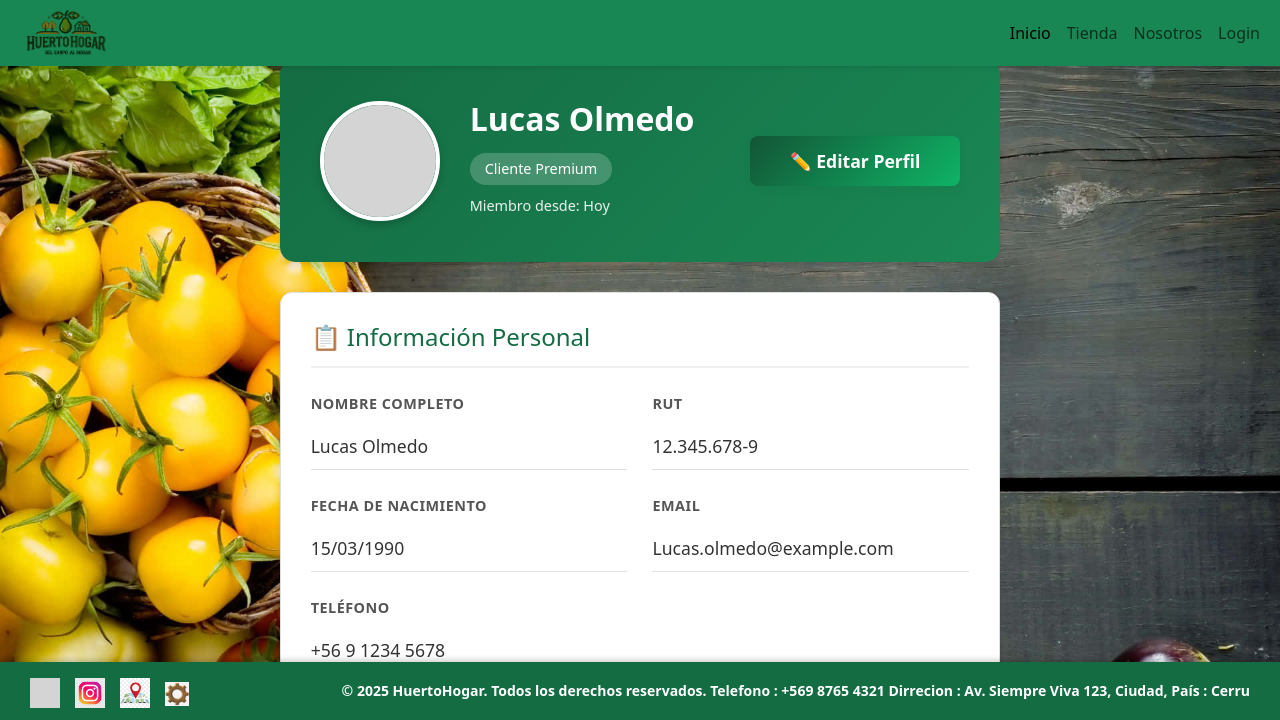
it: Usuario Component › 5. Cancela la edición sin guardar cambios
This screenshot has width=1280, height=720.
Click the button "✏️ Editar Perfil". click: click(855, 161)
box: [750,136,960,186]
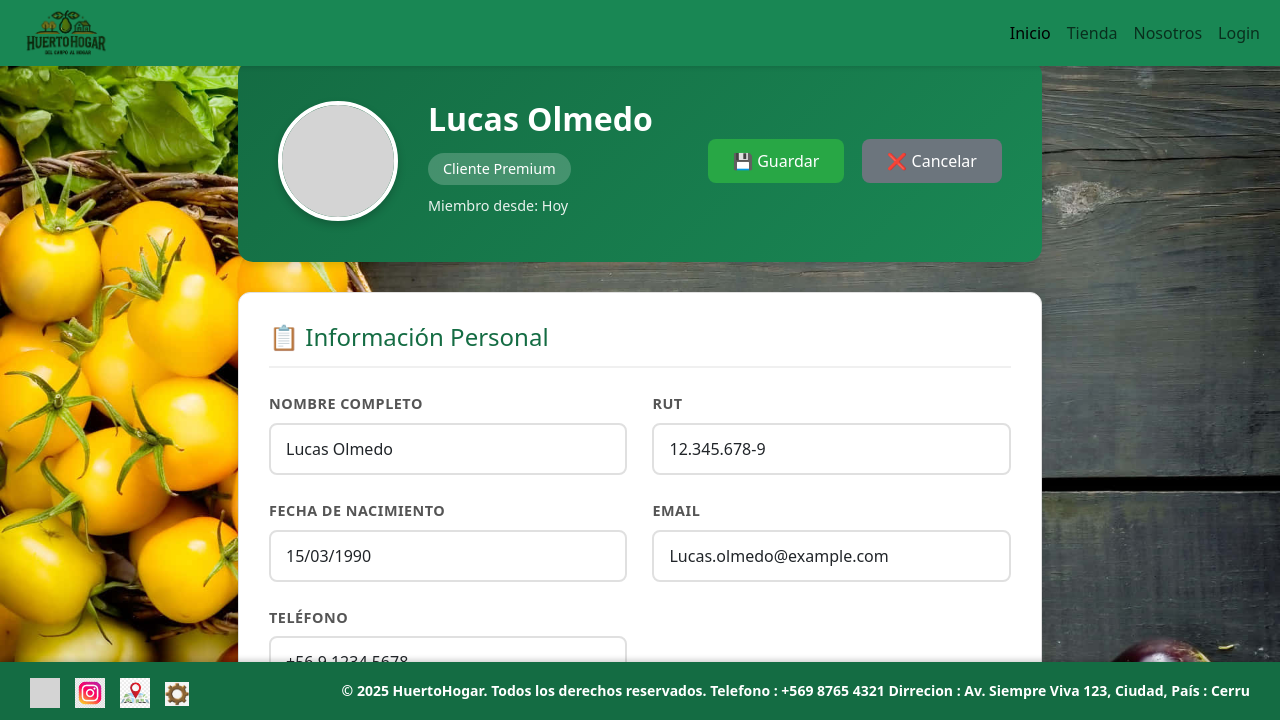
Replace the text in the field showing "Lucas Olmedo" below "Nombre Completo" with "Cambio Temporal". click: (448, 449)
box: [269,423,628,475]
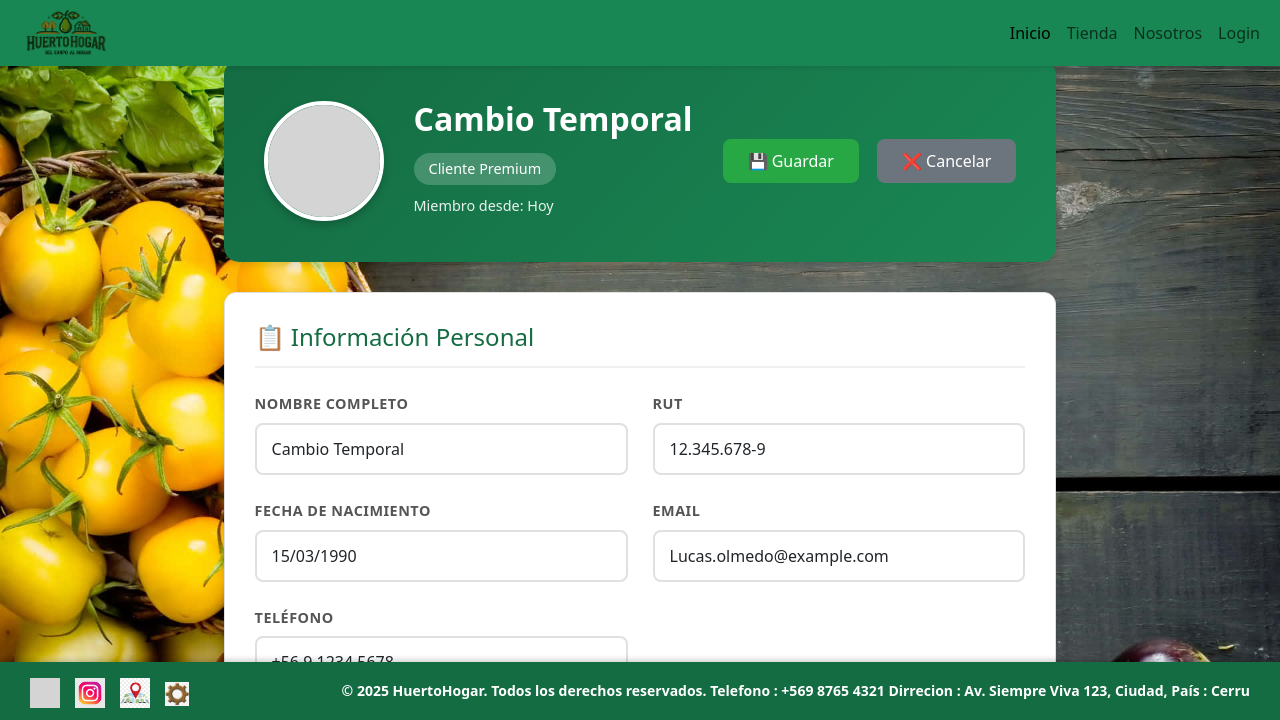
Click the button "❌ Cancelar". click: click(947, 161)
box: [877,139,1016,183]
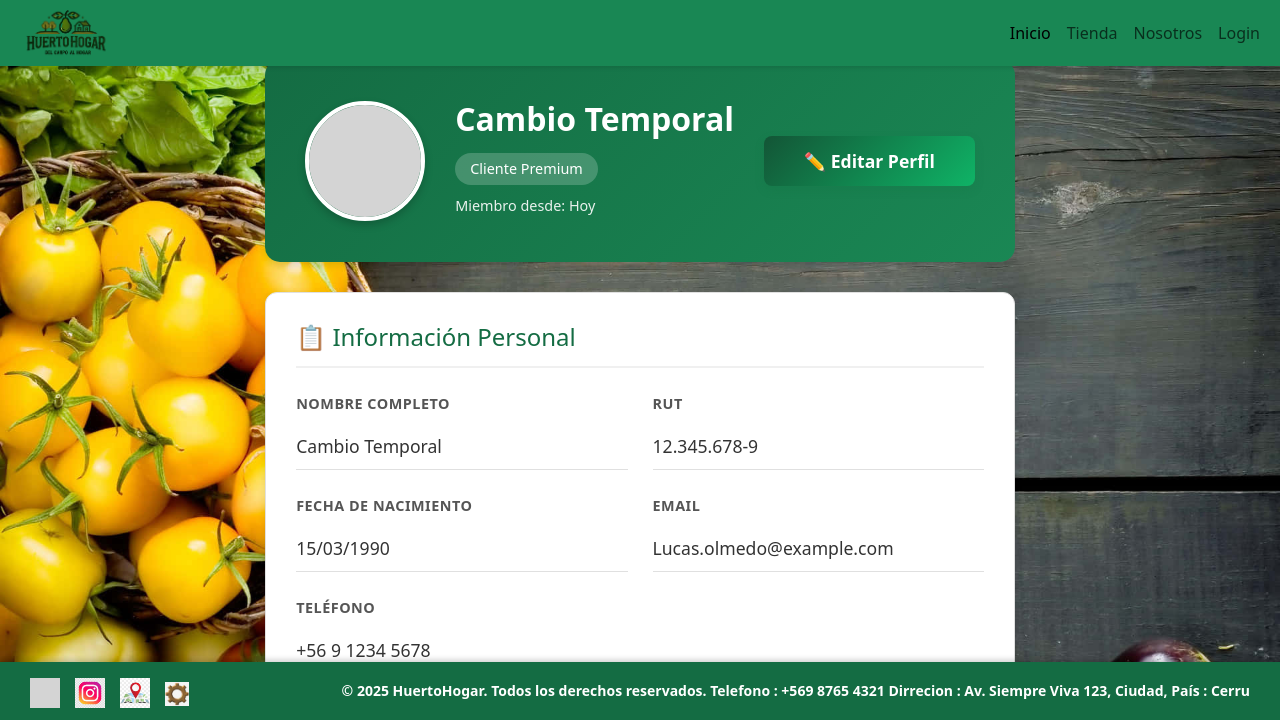
Check: the button "✏️ Editar Perfil" is shown, box [764,136,975,186]
